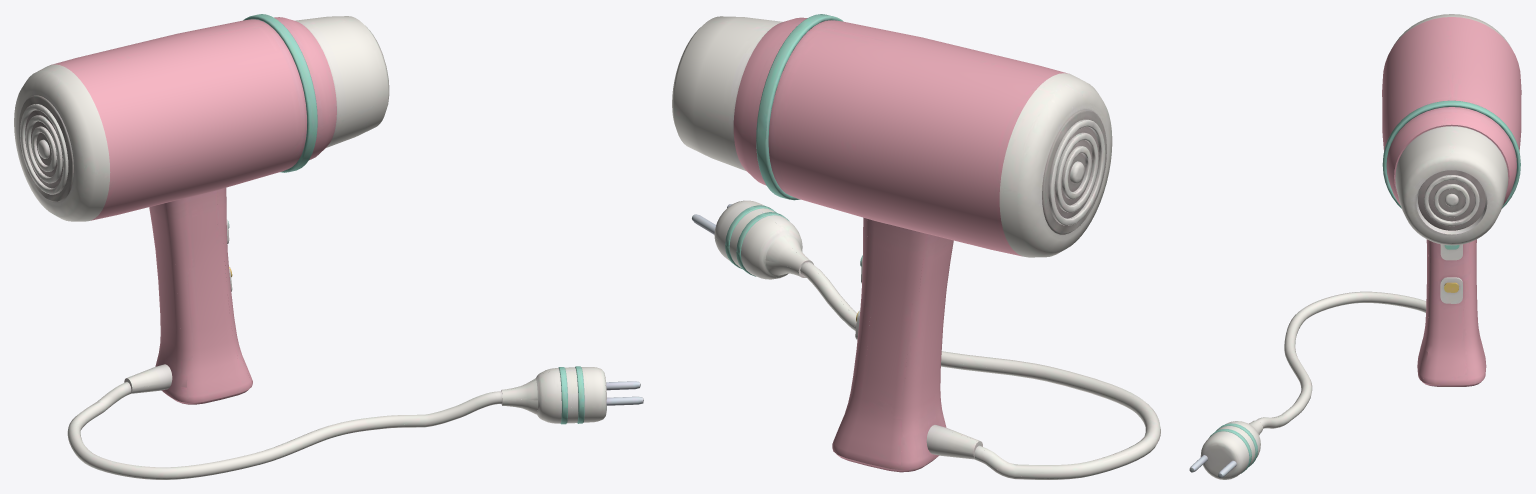
File: secador.glb
3 views of the same model, side by side, from view 1: azimuth 30°, elevation 25°; view 2: azimuth 150°, elevation 25°; view 3: azimuth 270°, elevation 25° (orthographic). The views are drawn at different scales.
Parts seen in each view (by area): view 1: hair-dryer_body; view 2: hair-dryer_body; view 3: hair-dryer_body.
Boxes of the visible parts, <box> form: hair-dryer_body: <box>14,14,643,479</box>; hair-dryer_body: <box>672,14,1160,479</box>; hair-dryer_body: <box>1189,14,1521,479</box>.
Bounding box in the file's own units: 0.2846 × 0.2002 × 0.201.
1 material, 1 textured.
